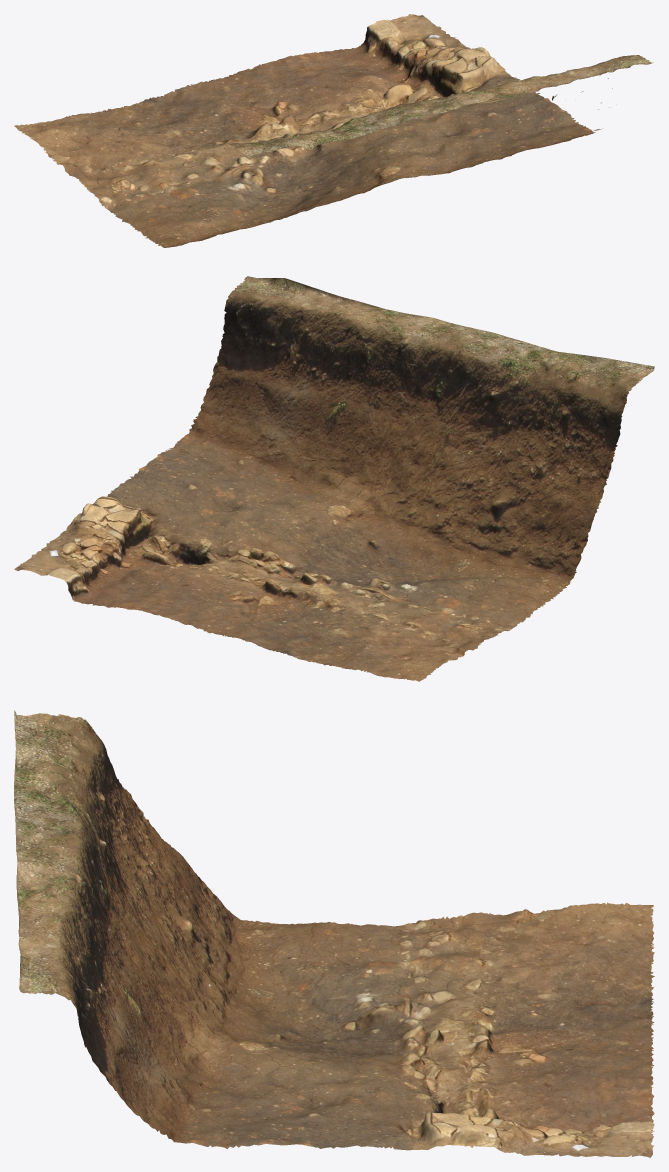
File: Montebelluna_scavo.026_LOD1.gltf
3 renders of one model, top to bottom at view 1: azimuth 30°, elevation 25°; view 2: azimuth 150°, elevation 25°; view 3: azimuth 270°, elevation 25°, orthographic. The views are drawn at different scales.
Visible parts, largest first — view 1: Montebelluna_scavo.026_LOD1_SM_Montebelluna_scavo.026_LOD1; view 2: Montebelluna_scavo.026_LOD1_SM_Montebelluna_scavo.026_LOD1; view 3: Montebelluna_scavo.026_LOD1_SM_Montebelluna_scavo.026_LOD1.
Part boxes in pixels (x1,y1,x2,y2): Montebelluna_scavo.026_LOD1_SM_Montebelluna_scavo.026_LOD1: (14,14,653,247); Montebelluna_scavo.026_LOD1_SM_Montebelluna_scavo.026_LOD1: (14,276,654,681); Montebelluna_scavo.026_LOD1_SM_Montebelluna_scavo.026_LOD1: (14,710,654,1157).
Bounding box in the file's own units: 3.89 × 1.49 × 3.87.
1 material, 1 textured.
